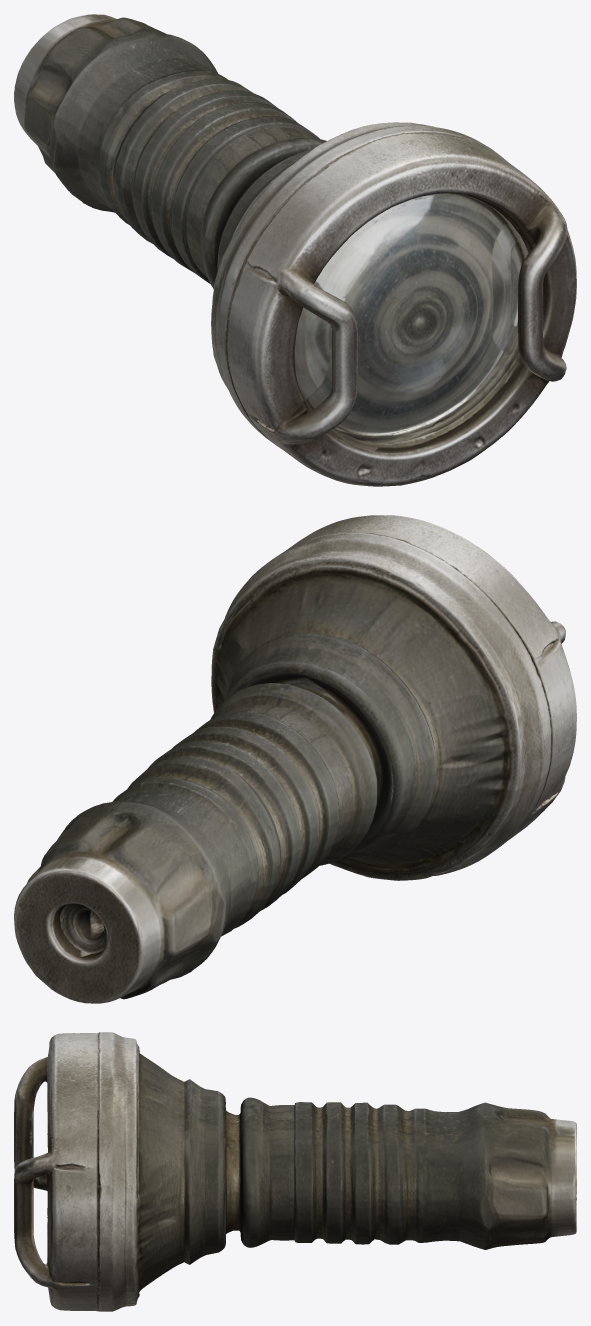
Rendered from WorkFlashlight.glb.
The picture shows the model from 3 angles, top to bottom: view 1: azimuth 30°, elevation 25°; view 2: azimuth 150°, elevation 25°; view 3: azimuth 270°, elevation 25°; orthographic projection. The views are drawn at different scales.
Parts seen in each view (by area): view 1: texture_mapping; view 2: texture_mapping; view 3: texture_mapping.
Boxes of the visible parts, left/top/right/bottom form: texture_mapping: left=14, top=14, right=576, bottom=486; texture_mapping: left=14, top=515, right=576, bottom=1003; texture_mapping: left=14, top=1032, right=576, bottom=1311.
Bounding box in the file's own units: 0.5137 × 0.4964 × 0.9996.
Materials: 1 (1 with a texture image).
